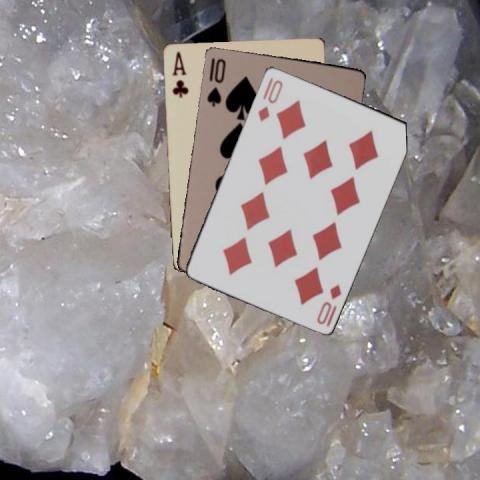10d: (255, 76, 284, 122), (313, 281, 343, 325)
10s: (204, 55, 227, 107)
Ac: (168, 48, 188, 99)
